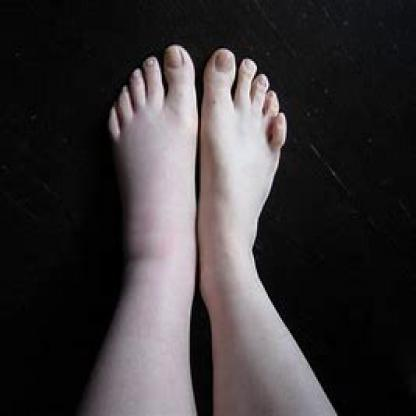Wasp: (118, 113, 176, 255)
